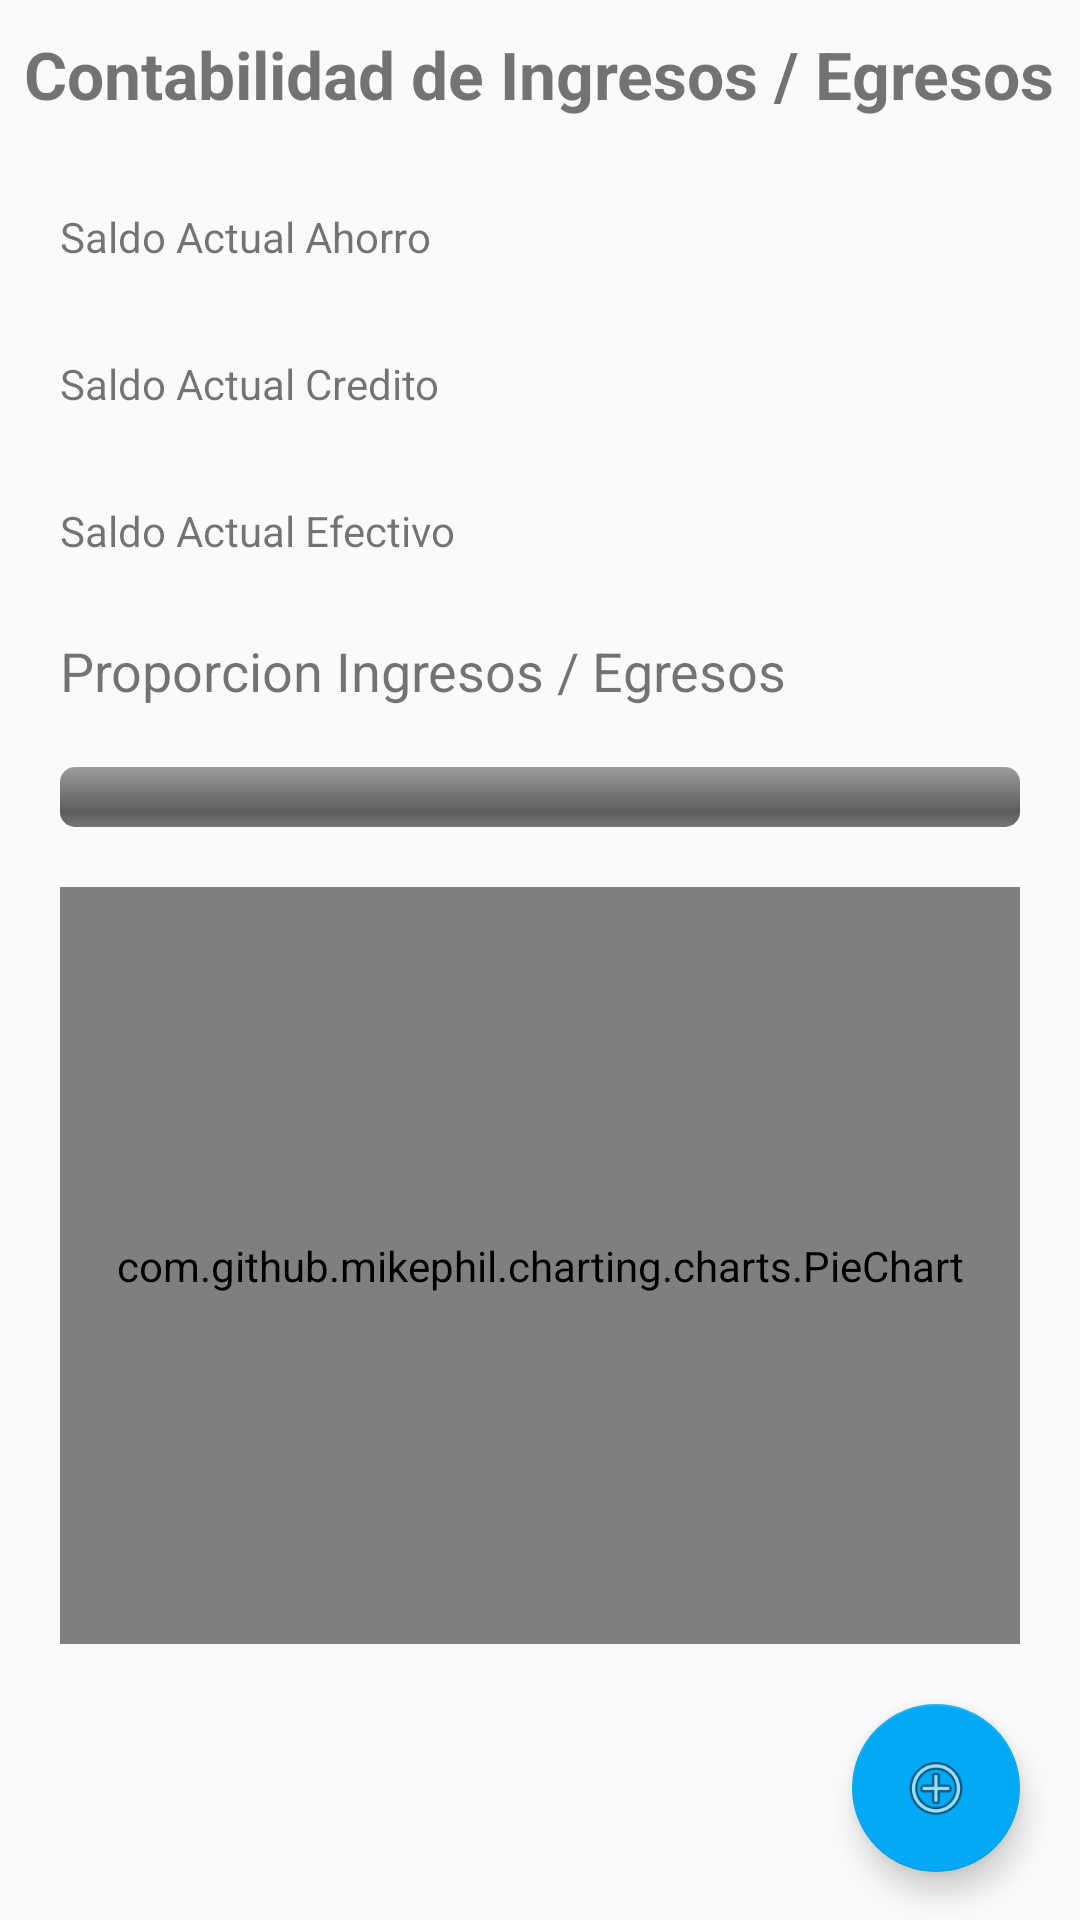

Point at icon controls on the screen. Image size 1080px x 1920px, points as (x,y).
add: (936,1788)
